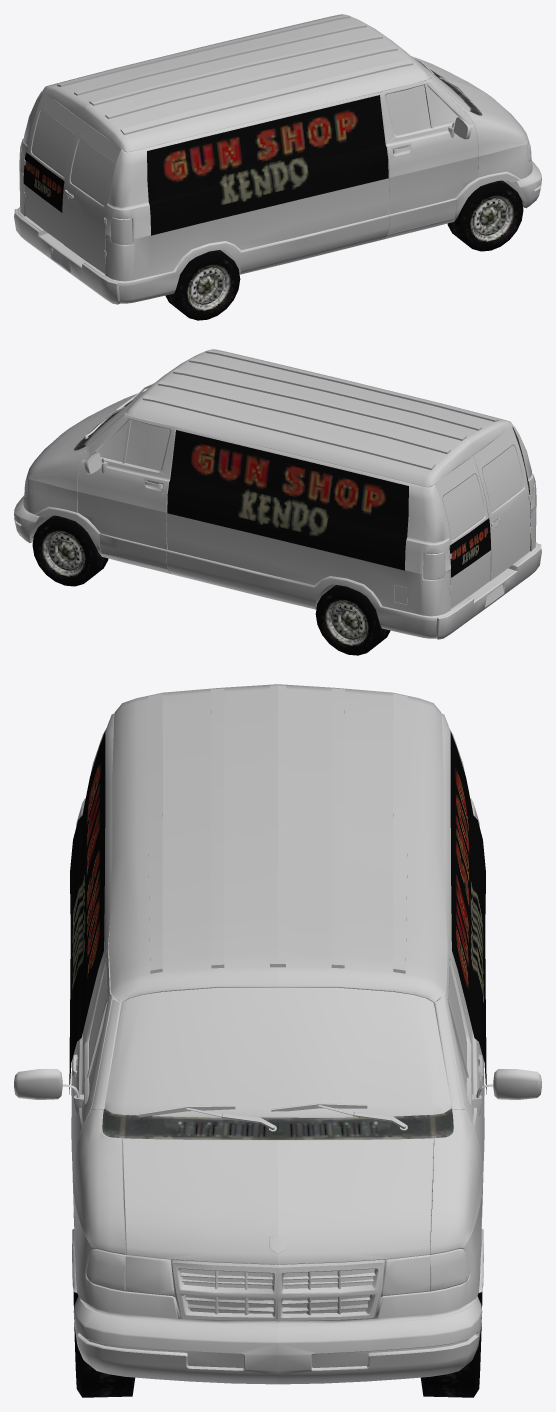
Rendered from kendo.obj.
The picture shows the model from 3 angles, top to bottom: view 1: azimuth 30°, elevation 25°; view 2: azimuth 150°, elevation 25°; view 3: azimuth 270°, elevation 25°; orthographic projection. The views are drawn at different scales.
Visible parts, largest first — view 1: 2, 4, 1, 0; view 2: 2, 4, 1, 0; view 3: 2, 0, 4, 1.
Boxes of the visible parts, x1,y1,x2,y2 form: 2: [14, 14, 541, 304]; 4: [23, 95, 388, 235]; 1: [24, 64, 523, 320]; 0: [31, 41, 470, 205]; 2: [14, 349, 541, 639]; 4: [167, 430, 490, 577]; 1: [32, 399, 531, 655]; 0: [85, 376, 523, 540]; 2: [14, 684, 541, 1384]; 0: [89, 964, 466, 1117]; 4: [69, 731, 486, 1094]; 1: [73, 1108, 482, 1397].
Size of the model in its own units: 5.58 by 2.35 by 2.95.
